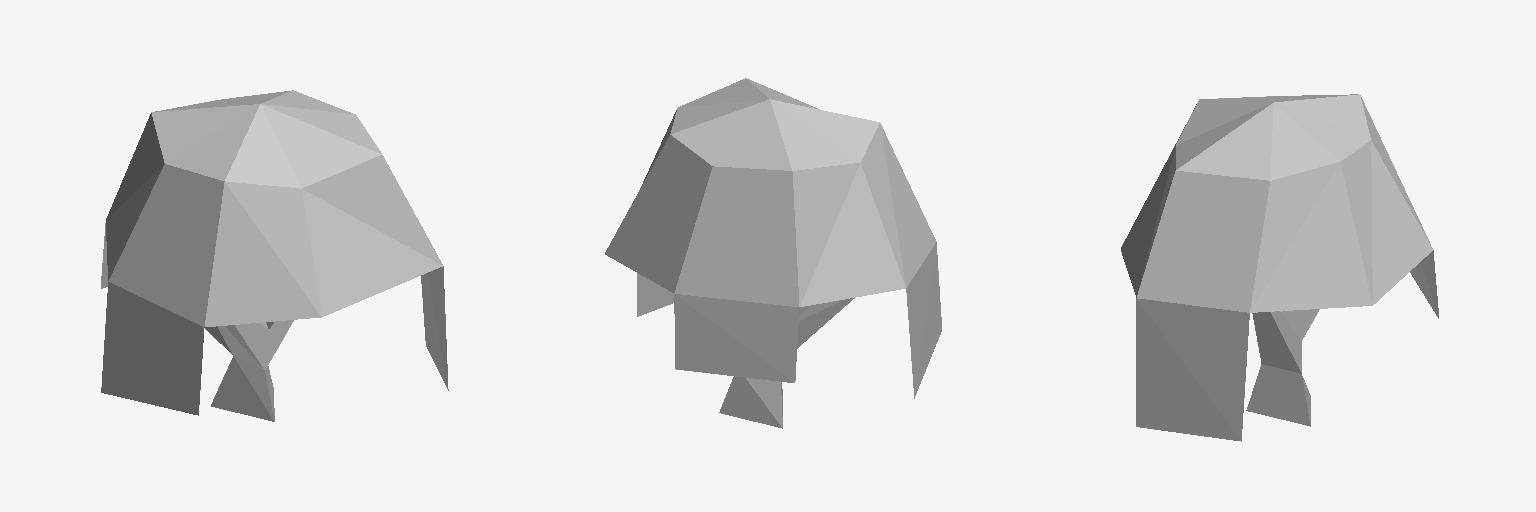
The model's file is tree1.obj.
The picture shows the model from 3 angles: view 1: azimuth 30°, elevation 25°; view 2: azimuth 150°, elevation 25°; view 3: azimuth 270°, elevation 25°; orthographic projection.
Parts seen in each view (by area): view 1: obj_tex_129, obj_tex_136; view 2: obj_tex_129, obj_tex_136; view 3: obj_tex_129, obj_tex_136.
Part boxes in pixels (x1,y1,x2,y2): obj_tex_129: (106, 90, 442, 326); obj_tex_136: (101, 223, 448, 421); obj_tex_129: (605, 78, 936, 306); obj_tex_136: (637, 242, 941, 428); obj_tex_129: (1121, 94, 1432, 312); obj_tex_136: (1136, 250, 1438, 441).
Bounding box in the file's own units: 1.31 × 1.29 × 1.21.